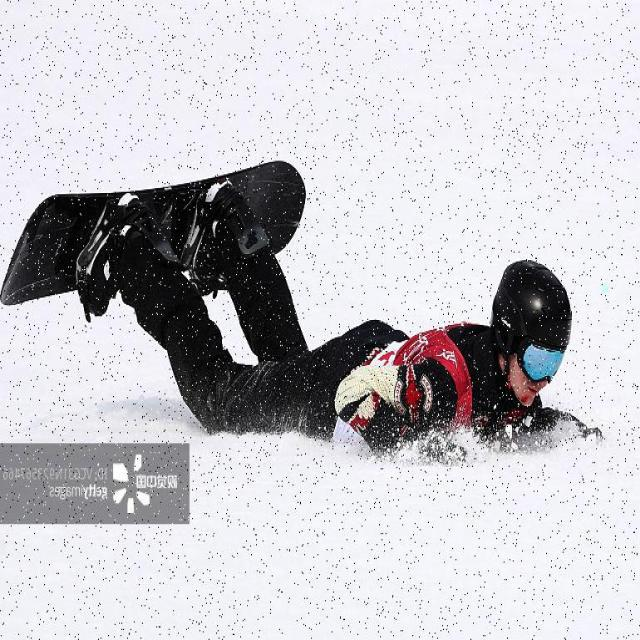fall: (103, 212, 575, 463)
